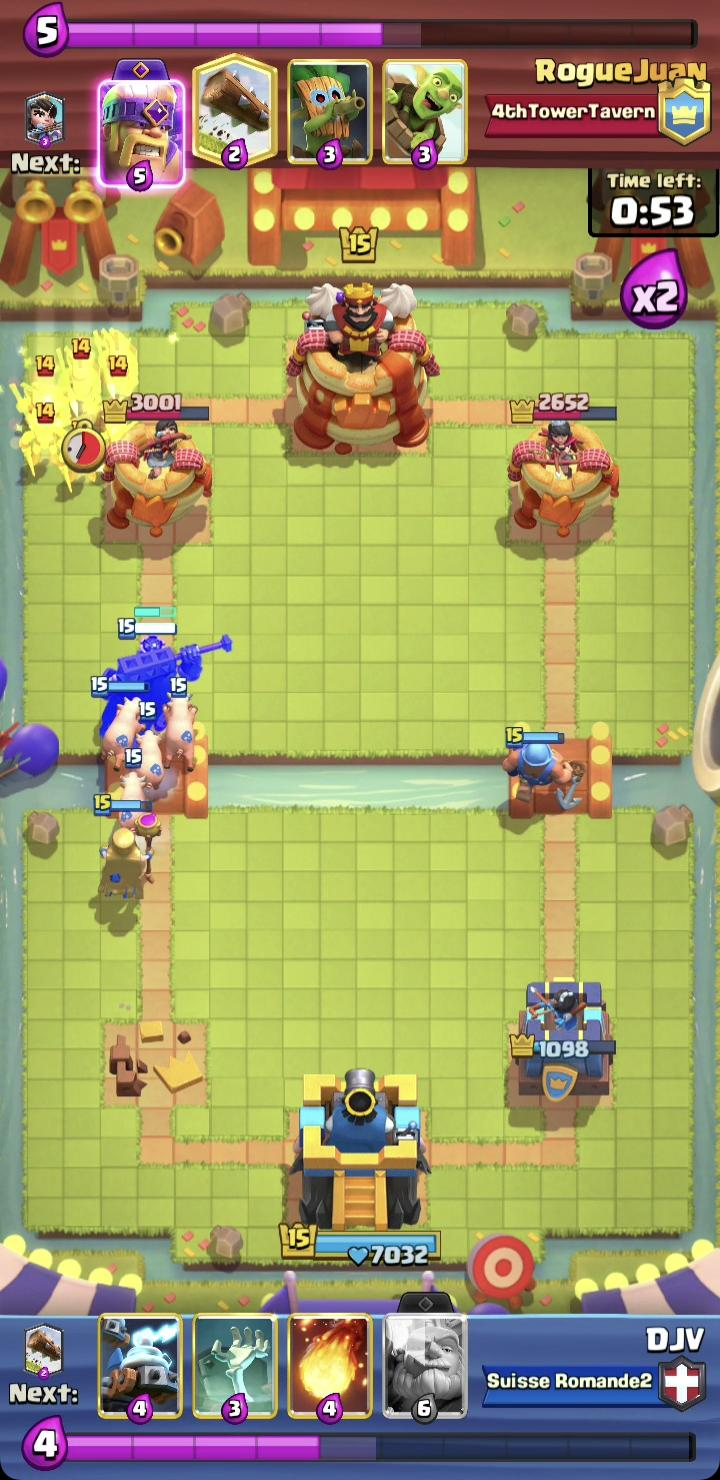ally_cursedhog: (90, 675, 151, 772), (128, 703, 166, 793), (161, 678, 198, 769), (116, 747, 151, 830)
ally_fisherman: (499, 724, 587, 815)
ally_motherwitch: (89, 792, 161, 901)
ally_skeletonking: (103, 606, 235, 736)
enemy_goblin: (19, 401, 65, 479), (60, 414, 97, 492)
enemy_spear_goblin: (11, 353, 64, 429), (56, 337, 105, 417), (92, 327, 140, 402)
